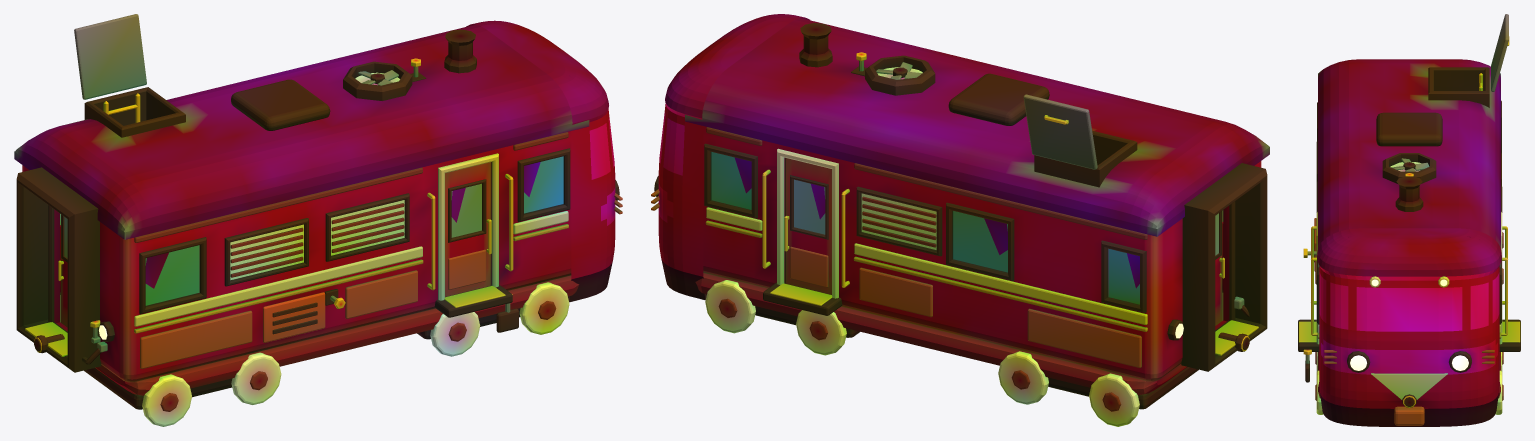
The model's file is DieselLocomotive_Blockout.fbx.
3 renders of one model, left to right at view 1: azimuth 30°, elevation 25°; view 2: azimuth 150°, elevation 25°; view 3: azimuth 270°, elevation 25°, orthographic. The views are drawn at different scales.
Visible parts, largest first — view 1: Roof, Body, Underframe, Livery, Ends, Nose, Grilles, Windows, SideDoorLeaf, RoofHatch_Engine, SideDoorSill, SideDoorFrame (+2 smaller); view 2: Roof, Body, Underframe, Livery, Ends, Nose, Windows, SideDoorLeaf_Far, Grilles, RoofHatch_Engine, SideDoorSill_Far, SideDoorFrame_Far (+1 smaller); view 3: Nose, Roof, SideDoorSill_Far, SideDoorSill, Underframe, RoofHatch_Engine, Windows, Fixed_Rail__Fan.
Boxes of the visible parts, x1,y1,x2,y2 form: Roof: (14, 22, 589, 239); Body: (22, 131, 571, 382); Underframe: (84, 275, 579, 426); Livery: (134, 132, 568, 368); Ends: (16, 167, 114, 372); Nose: (466, 20, 622, 302); Grilles: (224, 193, 409, 286); Windows: (60, 148, 570, 314); SideDoorLeaf: (445, 162, 491, 296); RoofHatch_Engine: (74, 14, 146, 99); SideDoorSill: (427, 174, 513, 317); SideDoorFrame: (438, 153, 498, 300); Roof: (685, 15, 1269, 236); Body: (703, 126, 1261, 381); Underframe: (695, 273, 1198, 426); Livery: (705, 127, 1147, 367); Ends: (1167, 163, 1267, 371); Nose: (651, 14, 809, 299); Windows: (704, 143, 1223, 313); SideDoorLeaf_Far: (784, 157, 831, 294); Grilles: (856, 186, 942, 256); RoofHatch_Engine: (1023, 94, 1097, 169); SideDoorSill_Far: (762, 169, 849, 315); SideDoorFrame_Far: (777, 148, 838, 298); Nose: (1317, 228, 1501, 426); Roof: (1318, 59, 1500, 267); SideDoorSill_Far: (1499, 226, 1520, 351); SideDoorSill: (1298, 226, 1319, 351); Underframe: (1315, 232, 1503, 414); RoofHatch_Engine: (1491, 14, 1509, 91); Windows: (1317, 100, 1501, 324); Fixed_Rail__Fan: (1391, 158, 1429, 171).
Bounding box in the file's own units: 7.68 × 4.09 × 3.24.
